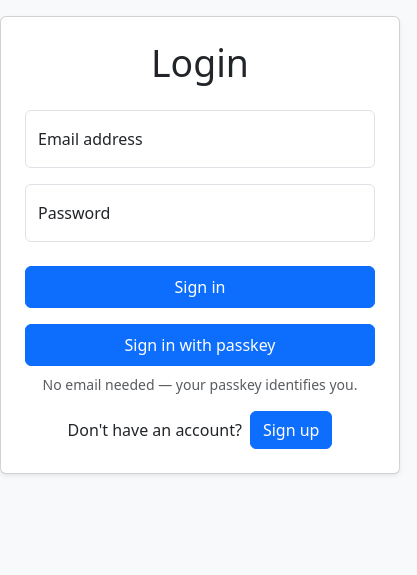
Test: LoginPage › shows an error when passkey authentication fails
This screenshot has width=417, height=575.
In the field labelled "Email address": (200, 139) [25,110,375,168], type "a@b.com"
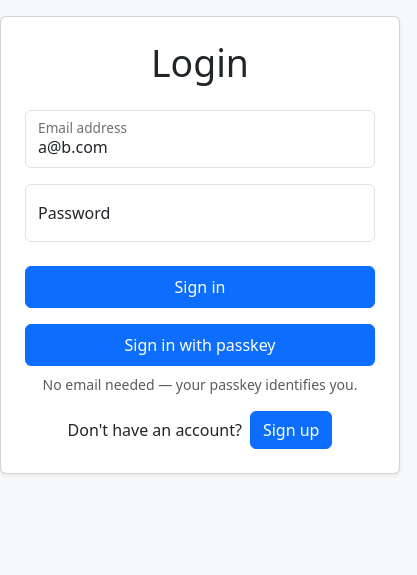
Click the button "Sign in with passkey": (200, 345) [25,324,375,366]
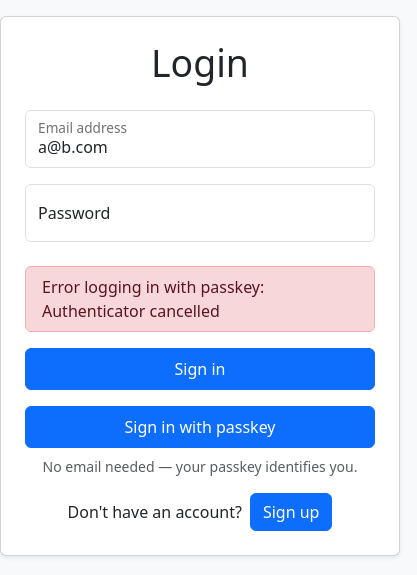
Now the message shows "Authenticator cancelled", box [42,276,264,322]
